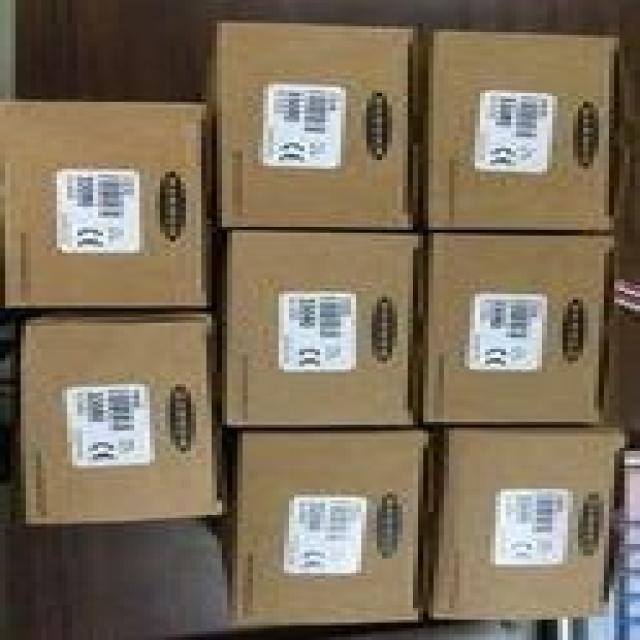box: (195, 24, 422, 230), (0, 99, 214, 306), (17, 308, 218, 524), (220, 233, 421, 427), (426, 33, 619, 233), (426, 429, 624, 618), (234, 432, 429, 622), (426, 233, 614, 423)
